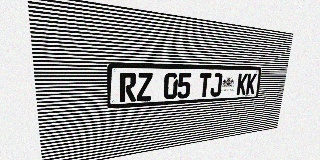0: (163, 73, 178, 100)
5: (177, 73, 191, 99)
J: (210, 73, 223, 97)
K: (236, 73, 248, 95), (246, 73, 257, 95)
R: (120, 73, 136, 102)
T: (198, 73, 212, 97)
Z: (137, 73, 153, 101)
